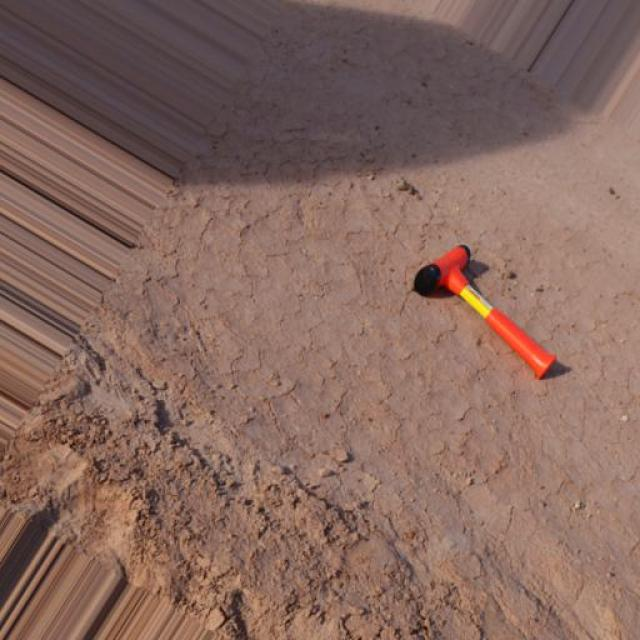mallet: (414, 241, 558, 380)
